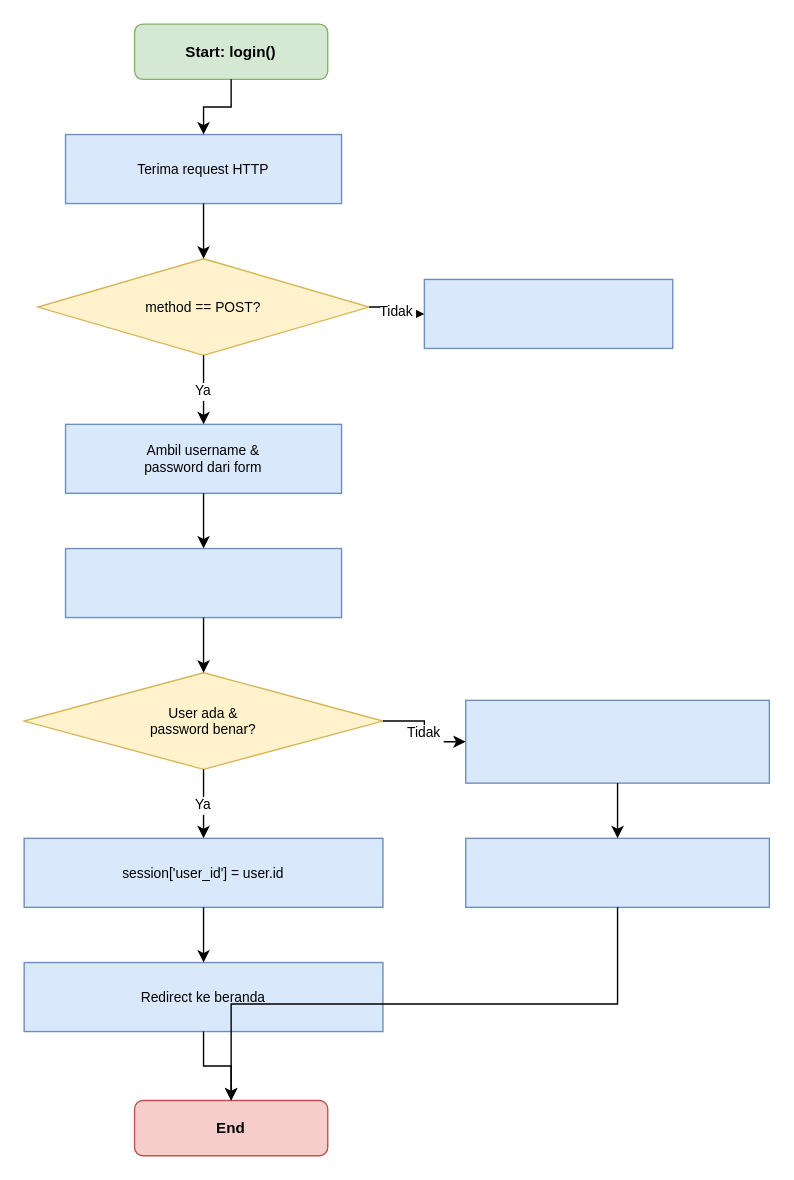
This 794x1180 diagram has some shape labels left out. Each missing label, with the centre of its shape:
Flash error: 'Username atau password salah': pixel 616 741
Query user dari database: pixel 203 582
Redirect ke halaman login: pixel 616 872
Render login.html (HTTP 200): pixel 548 313
